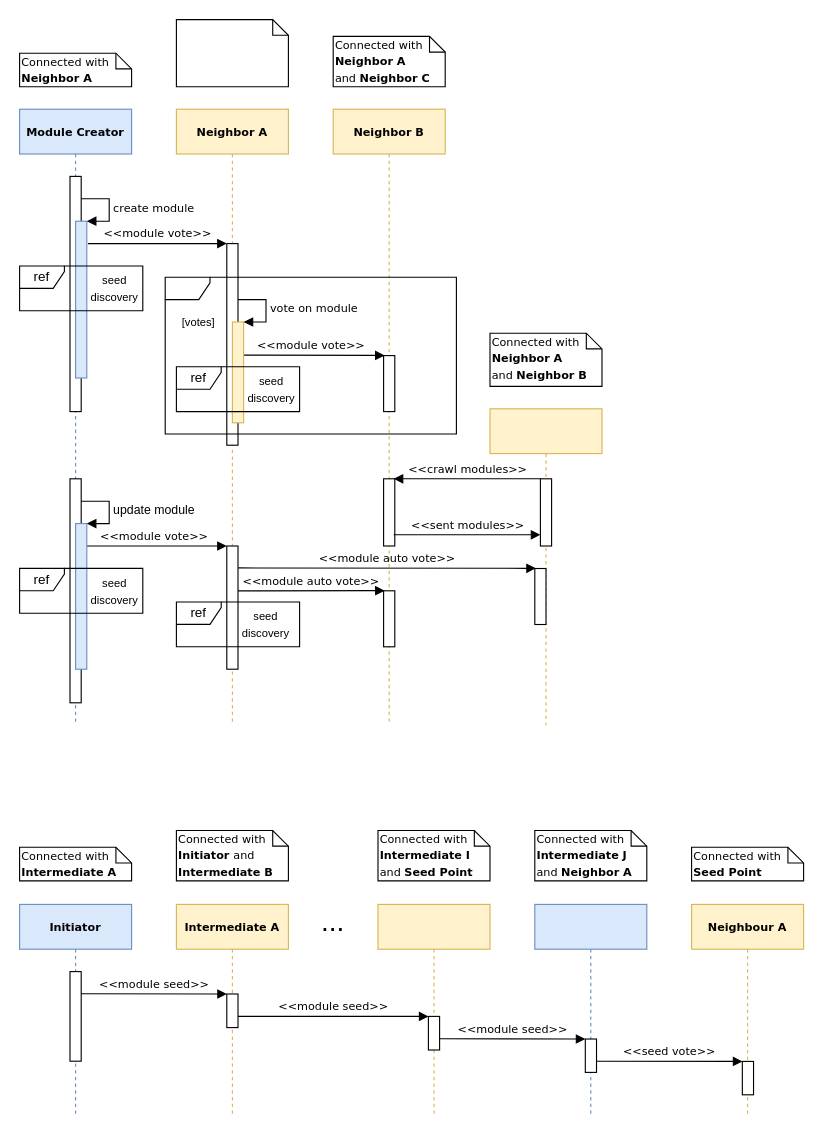
Some shapes in this 823 by 1137 pixel diagram are drawn without their labels. The shapes that lost their labels are listed below. From the top down, each one's centre as x and y in pixels, then its label:
the point at 231,52: Connected with Module Creator , Neighbor B , and Neighbor C
the point at 310,355: opt
the point at 545,566: Neighbor C
the point at 433,1010: Intermediate J
the point at 590,1010: Seed Point
